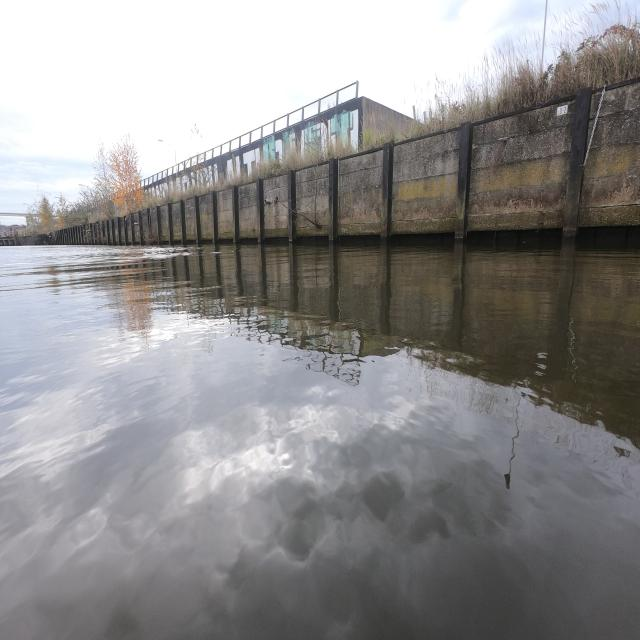sky: (8, 4, 554, 212)
wall: (20, 124, 466, 240), (464, 96, 566, 232), (584, 80, 638, 222)
water: (0, 243, 640, 640)
